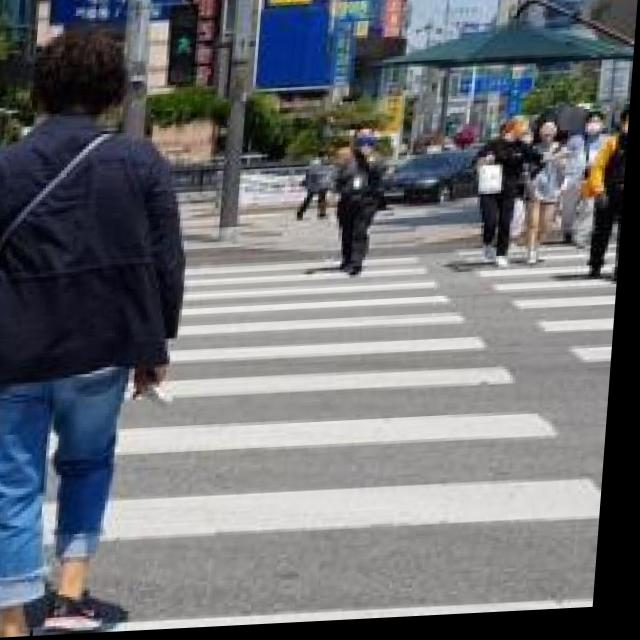zebra: (171, 235, 514, 632)
